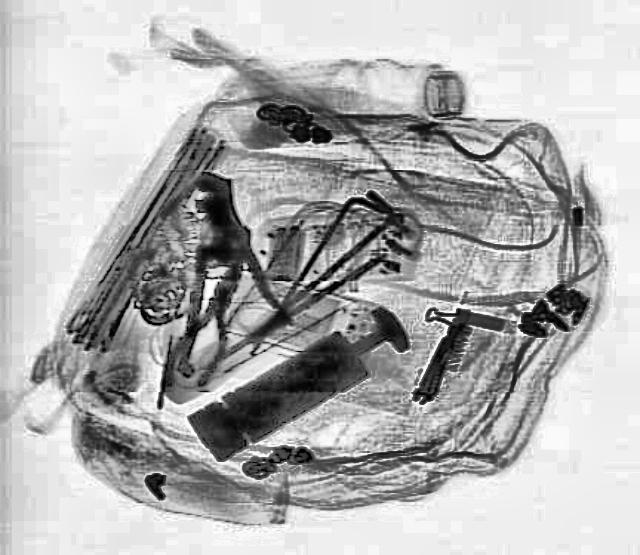Pliers: (142, 164, 300, 378), (160, 255, 260, 389)
